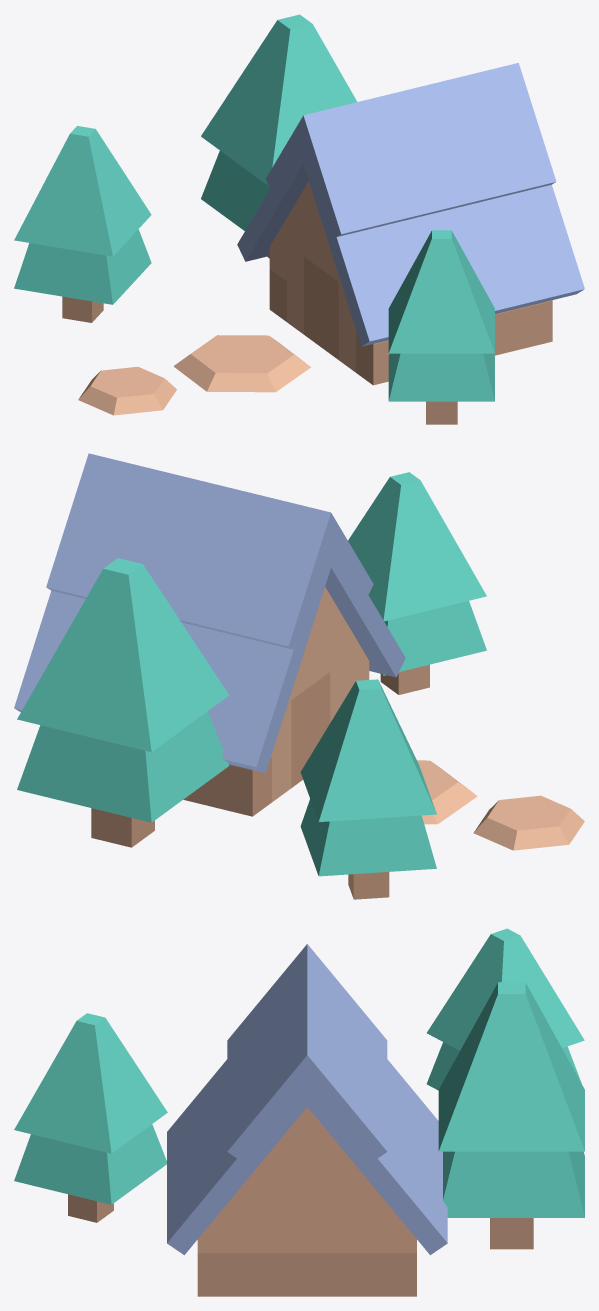
The model's file is Houselvl1.fbx.
3 renders of one model, top to bottom at view 1: azimuth 30°, elevation 25°; view 2: azimuth 150°, elevation 25°; view 3: azimuth 270°, elevation 25°, orthographic. The views are drawn at different scales.
Visible parts, largest first — view 1: building, tree.002, tree, tree.001, path.001, path; view 2: building, tree.001, tree.002, tree, path, path.001; view 3: building, tree.001, tree, tree.002.
Part boxes in pixels (bbox=[...]): building: bbox=[237, 63, 584, 385]; tree.002: bbox=[14, 126, 151, 322]; tree: bbox=[388, 230, 494, 424]; tree.001: bbox=[201, 14, 357, 258]; path.001: bbox=[173, 335, 310, 392]; path: bbox=[78, 366, 176, 415]; building: bbox=[14, 453, 405, 816]; tree.001: bbox=[17, 558, 229, 847]; tree.002: bbox=[300, 679, 436, 899]; tree: bbox=[348, 472, 486, 694]; path: bbox=[473, 795, 584, 850]; path.001: bbox=[417, 760, 477, 824]; building: bbox=[167, 944, 447, 1296]; tree.001: bbox=[438, 982, 584, 1249]; tree: bbox=[14, 1013, 167, 1222]; tree.002: bbox=[426, 928, 584, 1090].
Bounding box in the file's own units: 72.52 × 38 × 78.04.
